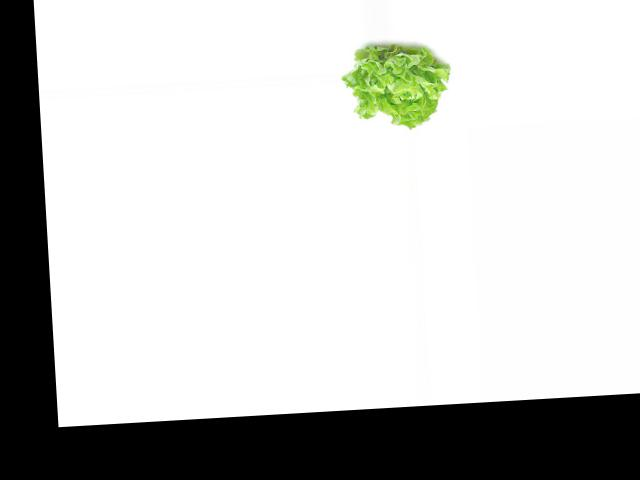lettuce: (341, 38, 451, 132)
